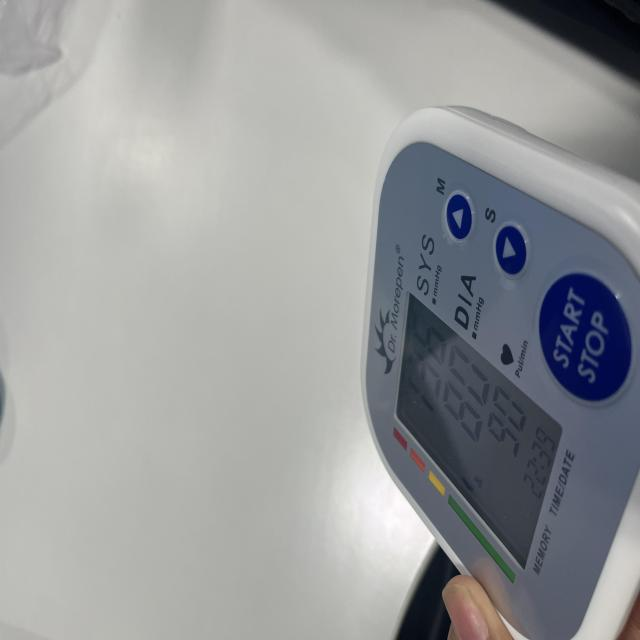bp: (361, 111, 640, 640)
